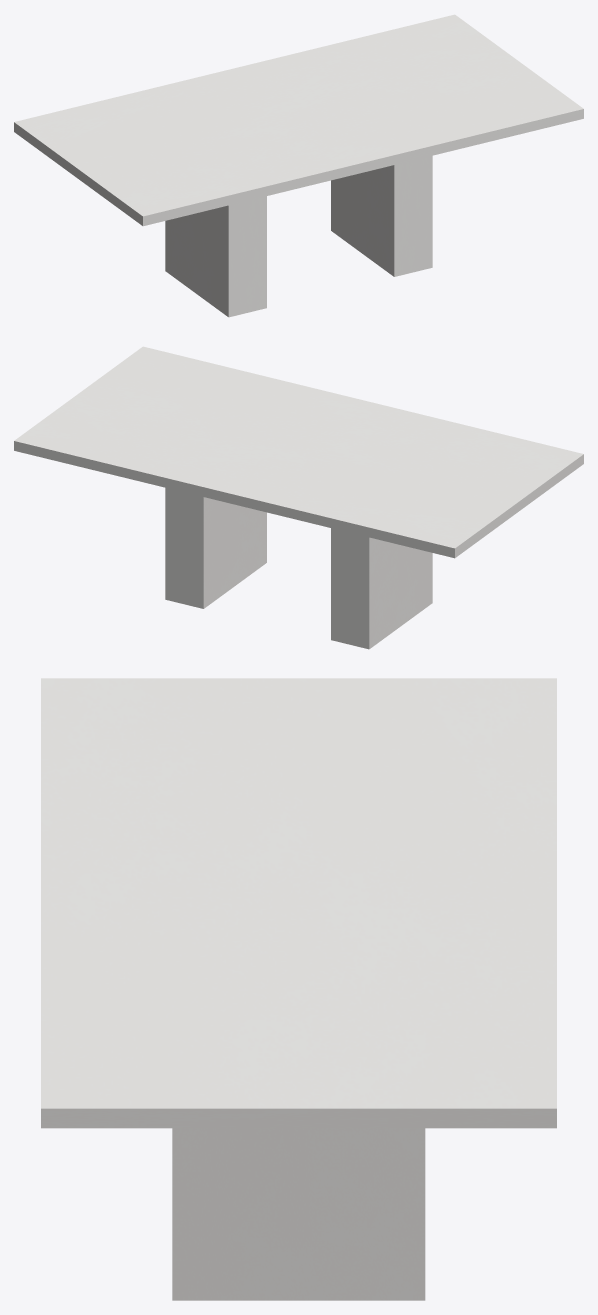
The model's file is purewhite_recta_standard_ridge.glb.
3 renders of one model, top to bottom at view 1: azimuth 30°, elevation 25°; view 2: azimuth 150°, elevation 25°; view 3: azimuth 270°, elevation 25°, orthographic. The views are drawn at different scales.
Visible parts, largest first — view 1: standard_recta, ridge; view 2: standard_recta, ridge; view 3: standard_recta, ridge.
Boxes of the visible parts, bbox=[...] form: standard_recta: bbox=[14, 14, 583, 226]; ridge: bbox=[165, 155, 432, 317]; standard_recta: bbox=[14, 346, 583, 558]; ridge: bbox=[165, 487, 432, 649]; standard_recta: bbox=[41, 678, 556, 1128]; ridge: bbox=[172, 1128, 425, 1300].
Bounding box in the file's own units: 7.5 × 2.5 × 3.8.
Materials: 1 (1 with a texture image).
